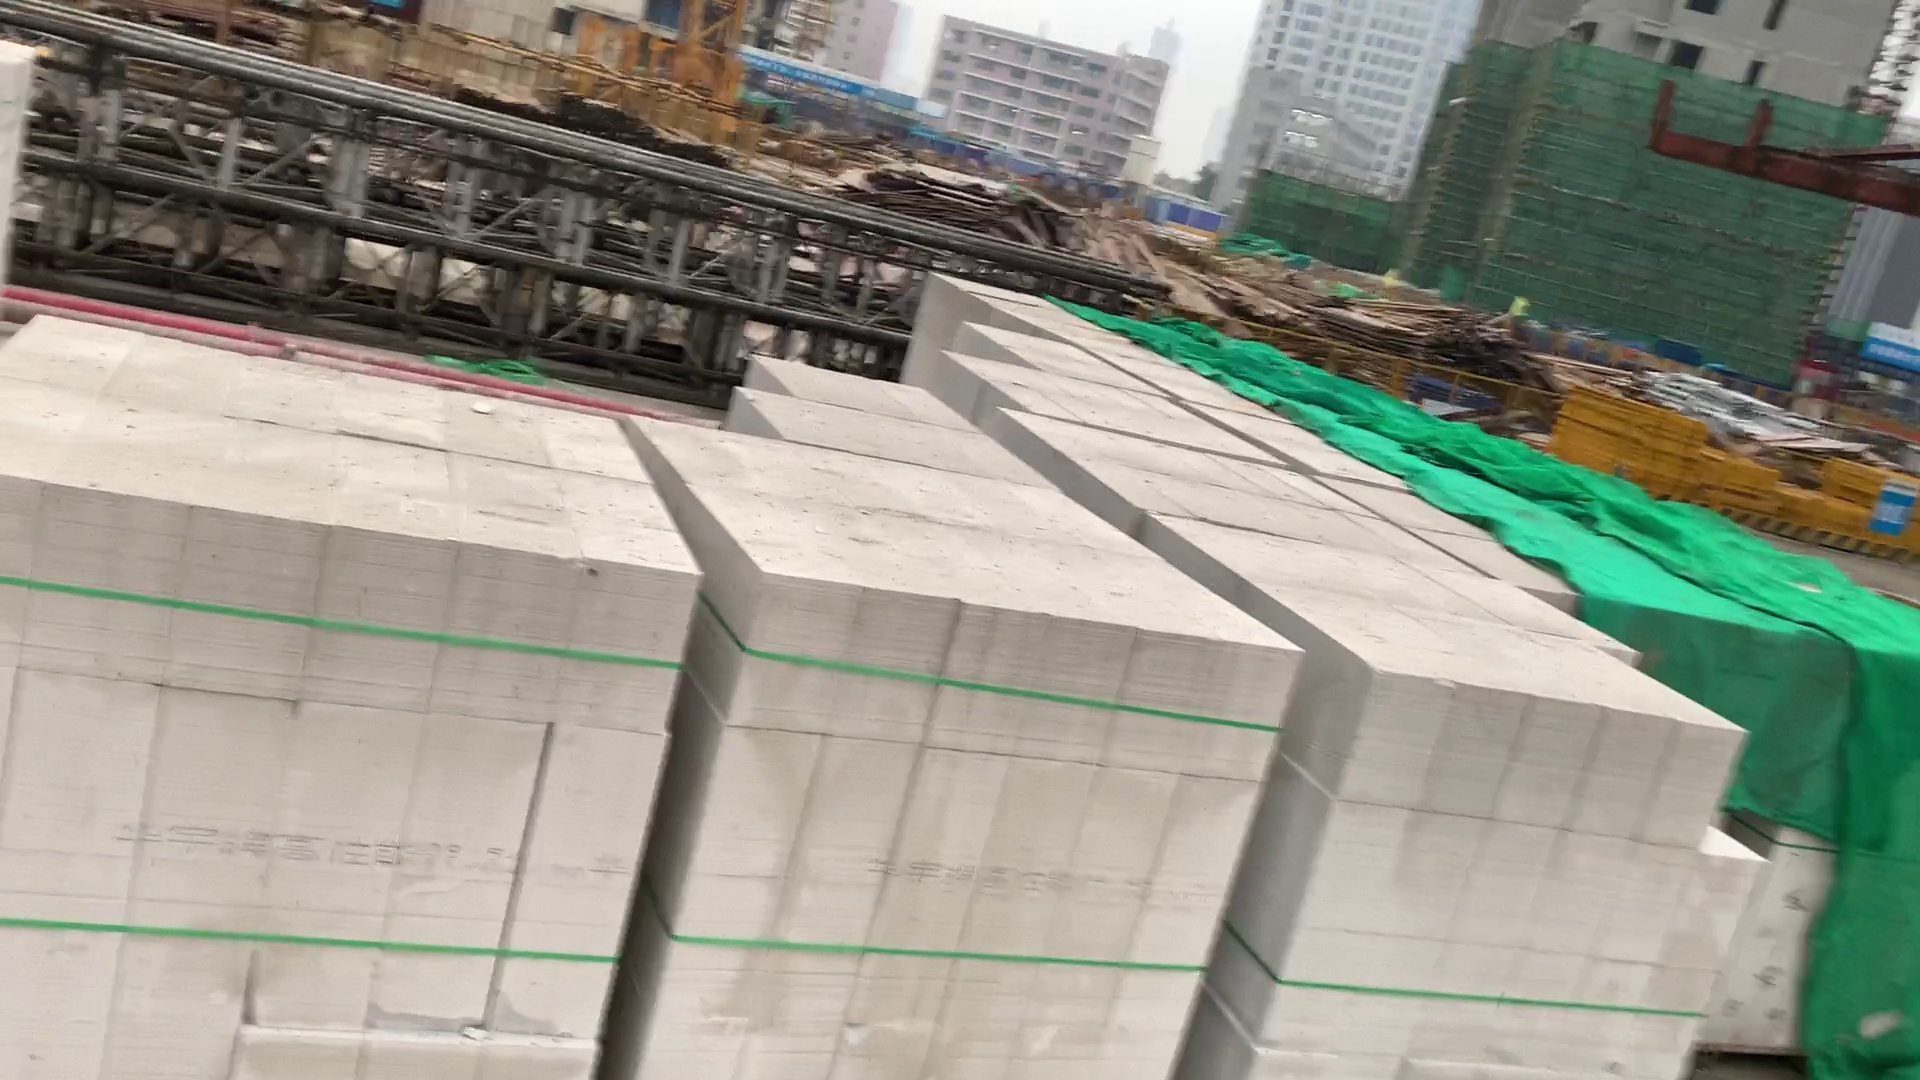brickwork: (1, 309, 678, 1080), (644, 411, 1287, 1080), (1162, 518, 1747, 1080), (1023, 415, 1473, 568), (735, 345, 1060, 491), (942, 349, 1280, 462), (965, 327, 1168, 392), (938, 270, 1130, 338)
